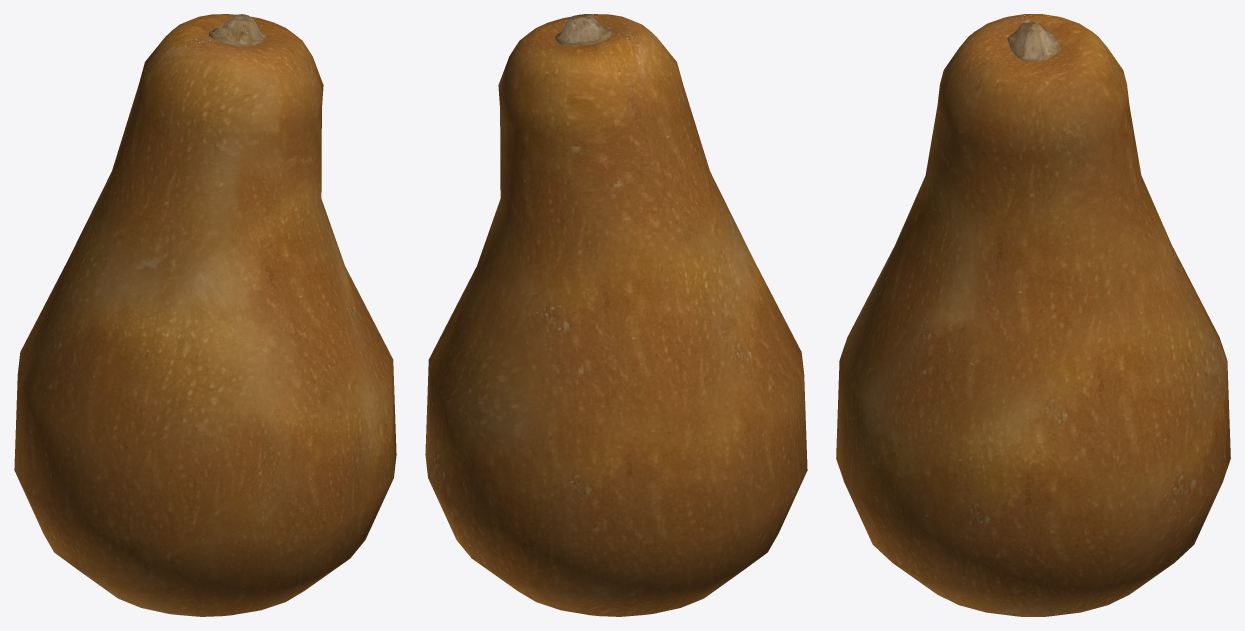
File: sqaush.fbx
3 views of the same model, side by side, from view 1: azimuth 30°, elevation 25°; view 2: azimuth 150°, elevation 25°; view 3: azimuth 270°, elevation 25° (orthographic). The views are drawn at different scales.
Parts seen in each view (by area): view 1: Squash; view 2: Squash; view 3: Squash.
Boxes of the visible parts, box(x1,y1,x2,y2) form: Squash: box(14, 14, 396, 616); Squash: box(425, 14, 807, 616); Squash: box(836, 14, 1230, 616).
Bounding box in the file's own units: 75.82 × 124 × 76.6.
